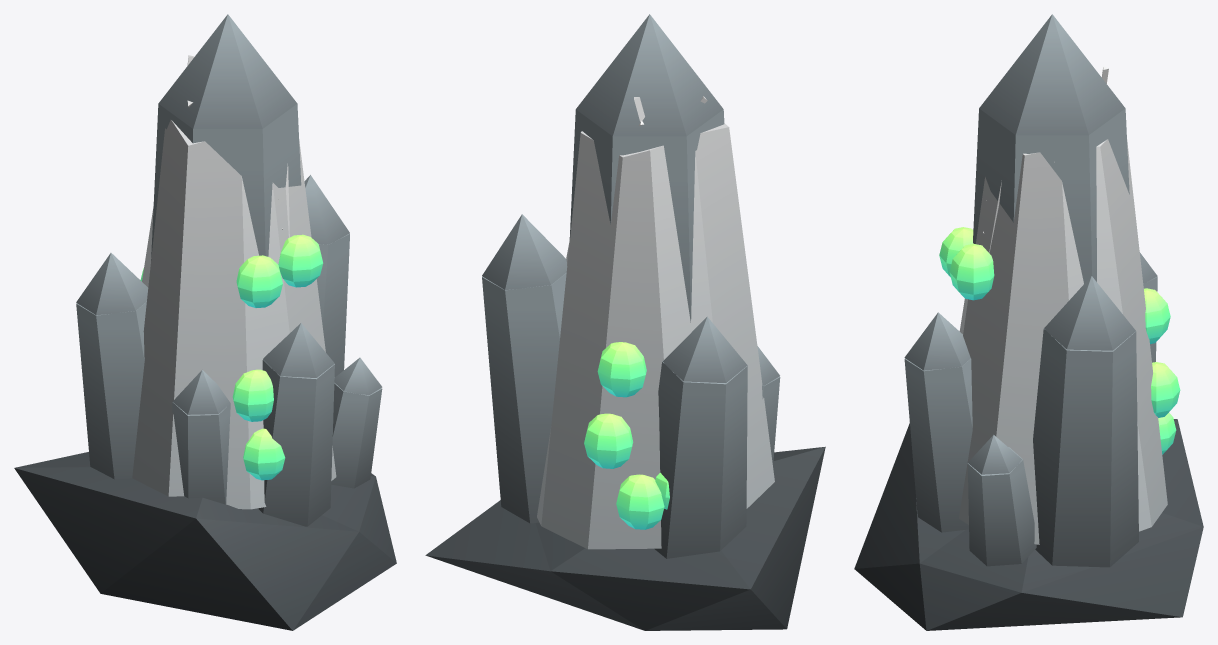
Rendered from spring_crystal_cocooned.glb.
The picture shows the model from 3 angles, left to right: view 1: azimuth 30°, elevation 25°; view 2: azimuth 150°, elevation 25°; view 3: azimuth 270°, elevation 25°; orthographic projection. The views are drawn at different scales.
Visible parts, largest first — view 1: spring_crystal_cocooned; view 2: spring_crystal_cocooned; view 3: spring_crystal_cocooned.
Boxes of the visible parts, x1,y1,x2,y2 form: spring_crystal_cocooned: (14, 14, 396, 630); spring_crystal_cocooned: (425, 14, 825, 630); spring_crystal_cocooned: (854, 14, 1203, 630).
Size of the model in its own units: 3.83 by 6.83 by 3.63.
Materials: 2 (2 with a texture image).
